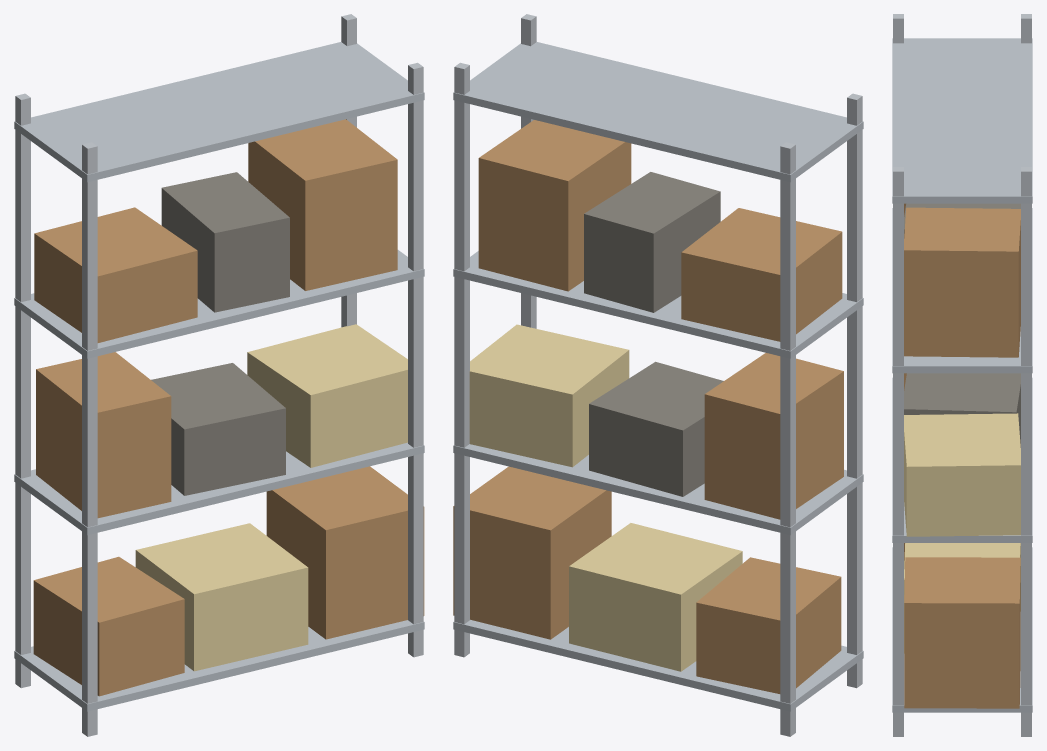
File: StorageShelf.fbx
3 renders of one model, left to right at view 1: azimuth 30°, elevation 25°; view 2: azimuth 150°, elevation 25°; view 3: azimuth 270°, elevation 25°, orthographic. The views are drawn at different scales.
Parts seen in each view (by area): view 1: StorageShelfBody; view 2: StorageShelfBody; view 3: StorageShelfBody.
Boxes of the visible parts, x1,y1,x2,y2 form: StorageShelfBody: (14,14,424,736); StorageShelfBody: (453,14,863,736); StorageShelfBody: (892,14,1032,736).
Bounding box in the file's own units: 1.22 × 2 × 0.45.
